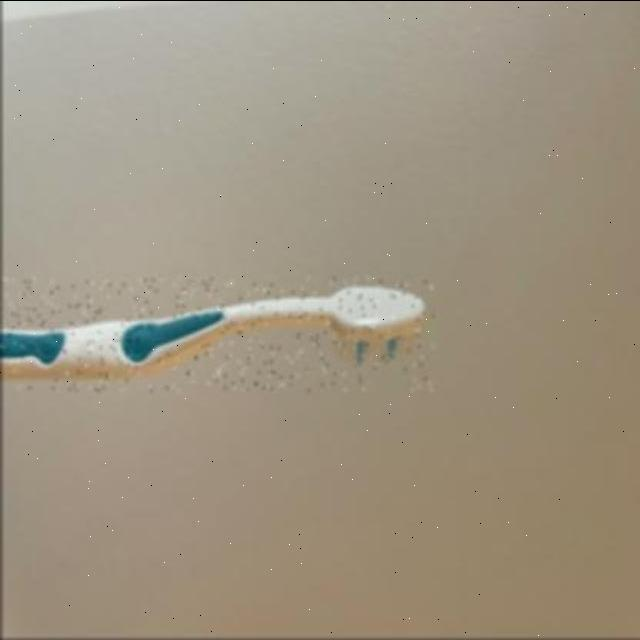toothbrush: (1, 278, 436, 392)
